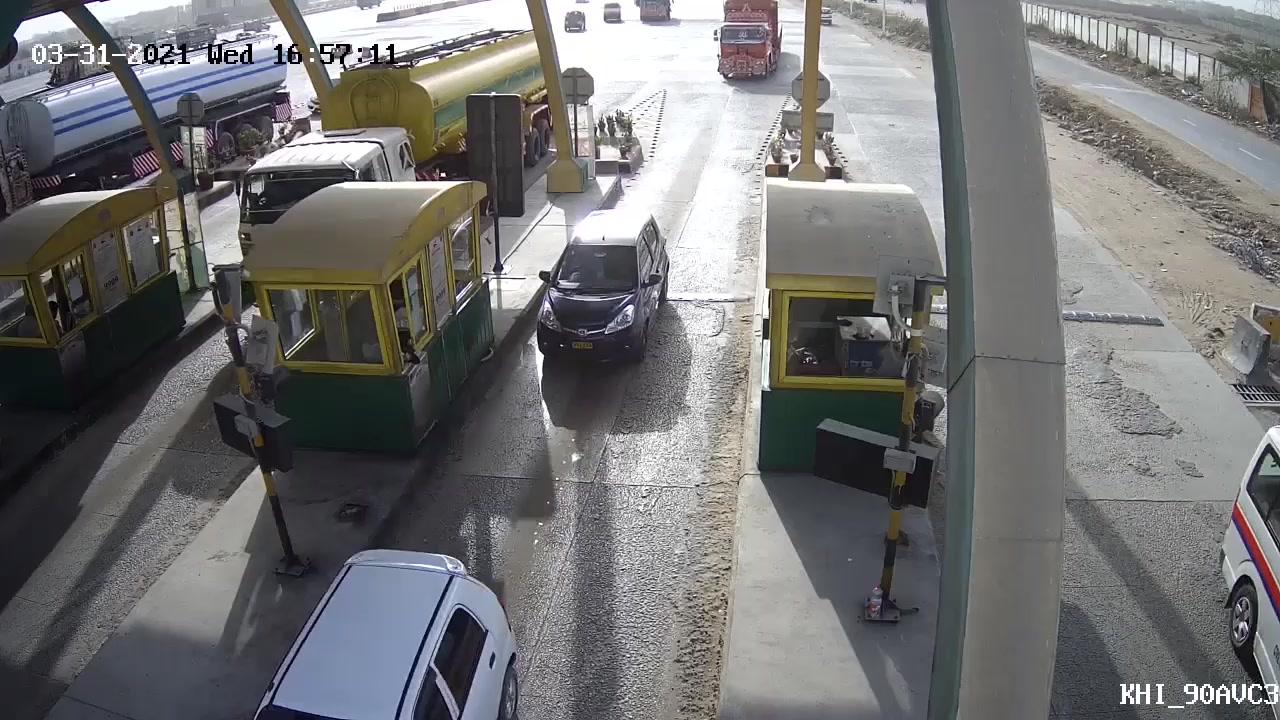F1: (511, 198, 677, 374)
